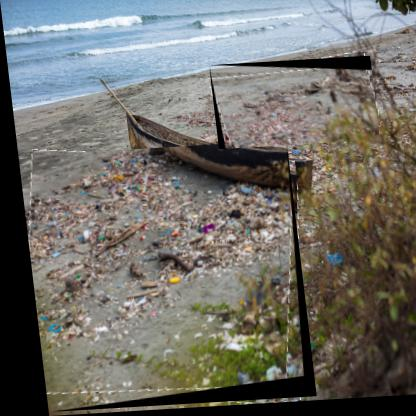Garbage: (16, 144, 309, 414), (208, 61, 378, 154)
